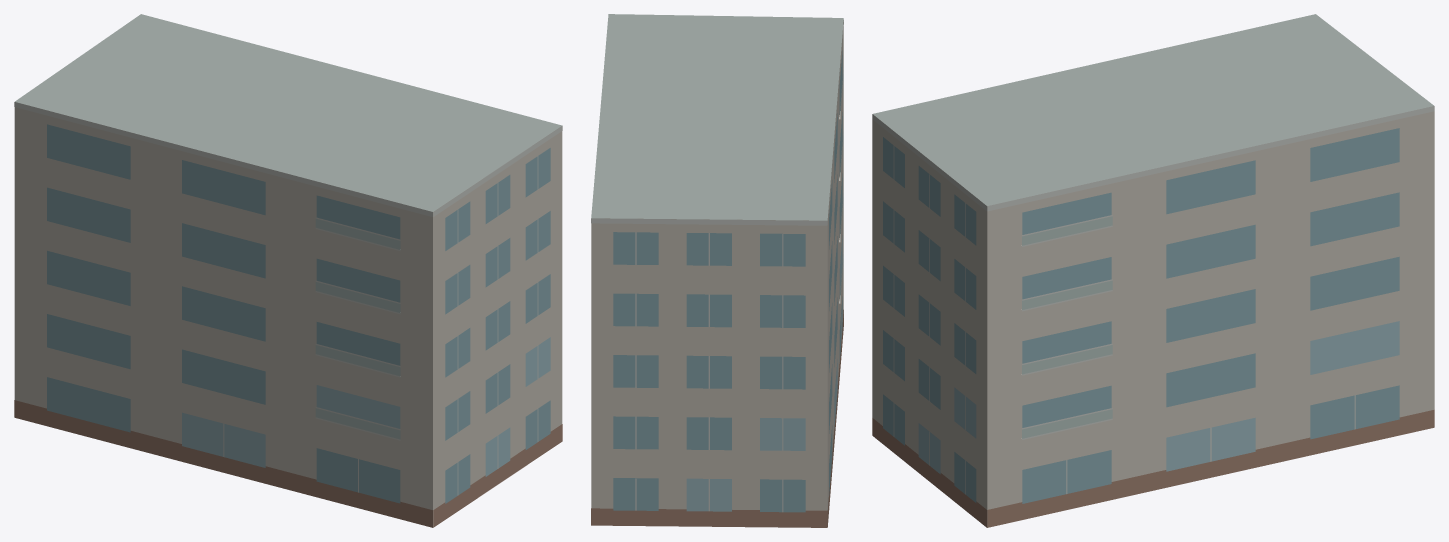
Rendered from survey-upis-32656025.glb.
The picture shows the model from 3 angles, left to right: view 1: azimuth 30°, elevation 25°; view 2: azimuth 150°, elevation 25°; view 3: azimuth 270°, elevation 25°; orthographic projection. The views are drawn at different scales.
Parts seen in each view (by area): view 1: survey-upis-32656025.tmp; view 2: survey-upis-32656025.tmp; view 3: survey-upis-32656025.tmp.
Boxes of the visible parts, box(x1,y1,x2,y2) form: survey-upis-32656025.tmp: box(14, 14, 562, 527); survey-upis-32656025.tmp: box(591, 14, 843, 527); survey-upis-32656025.tmp: box(872, 14, 1434, 527).
Size of the model in its own units: 18.71 by 14.6 by 23.13.
